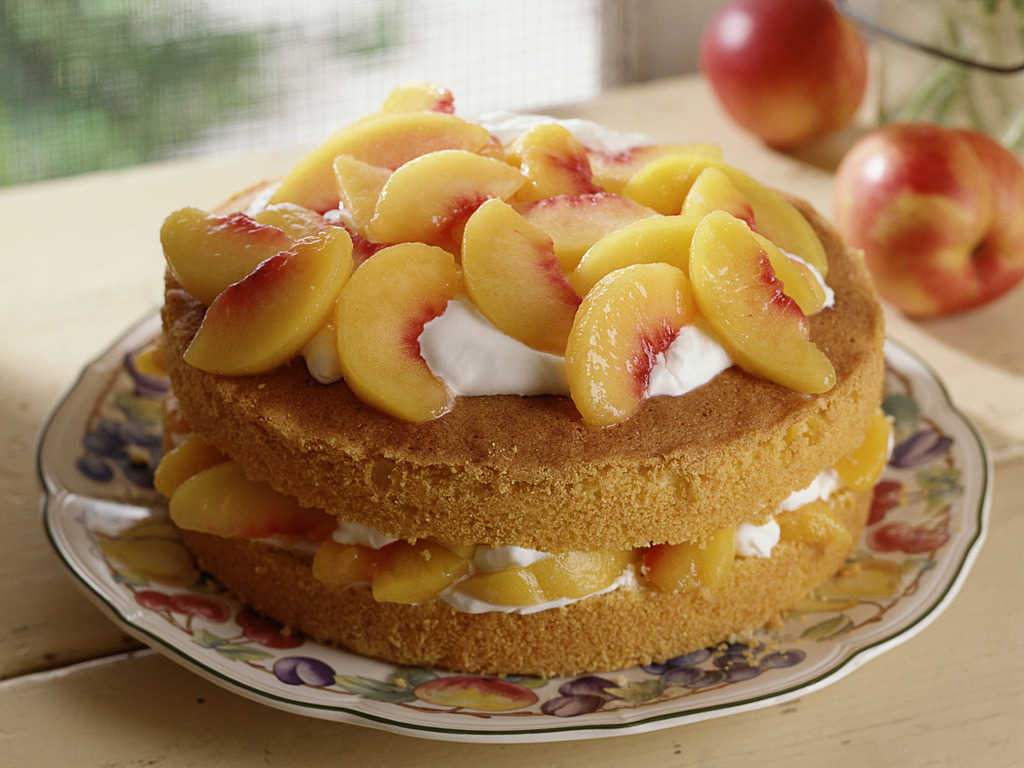Apple: (826, 120, 1024, 323), (698, 0, 868, 152)
